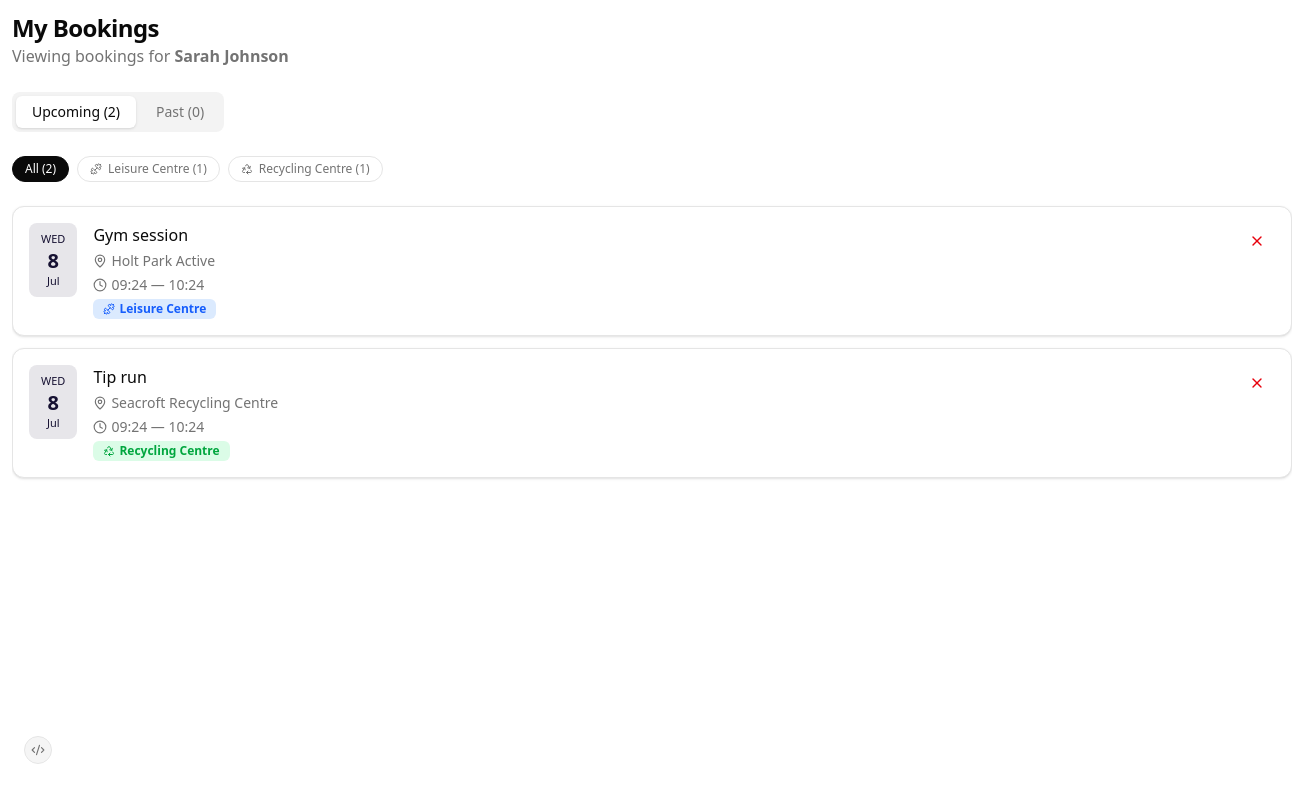
MyBookingsPage › filters bookings by category chip when multiple categories are present
Expected: the text "Gym session" is shown, [93,223,188,247]
Expected: the text "Tip run" is shown, [93,365,147,389]
What coordinates should you click on to do the following:
click the button "Recycling Centre (1)"
I would click on:
 (305, 169)
Its box is [228,156,383,182].
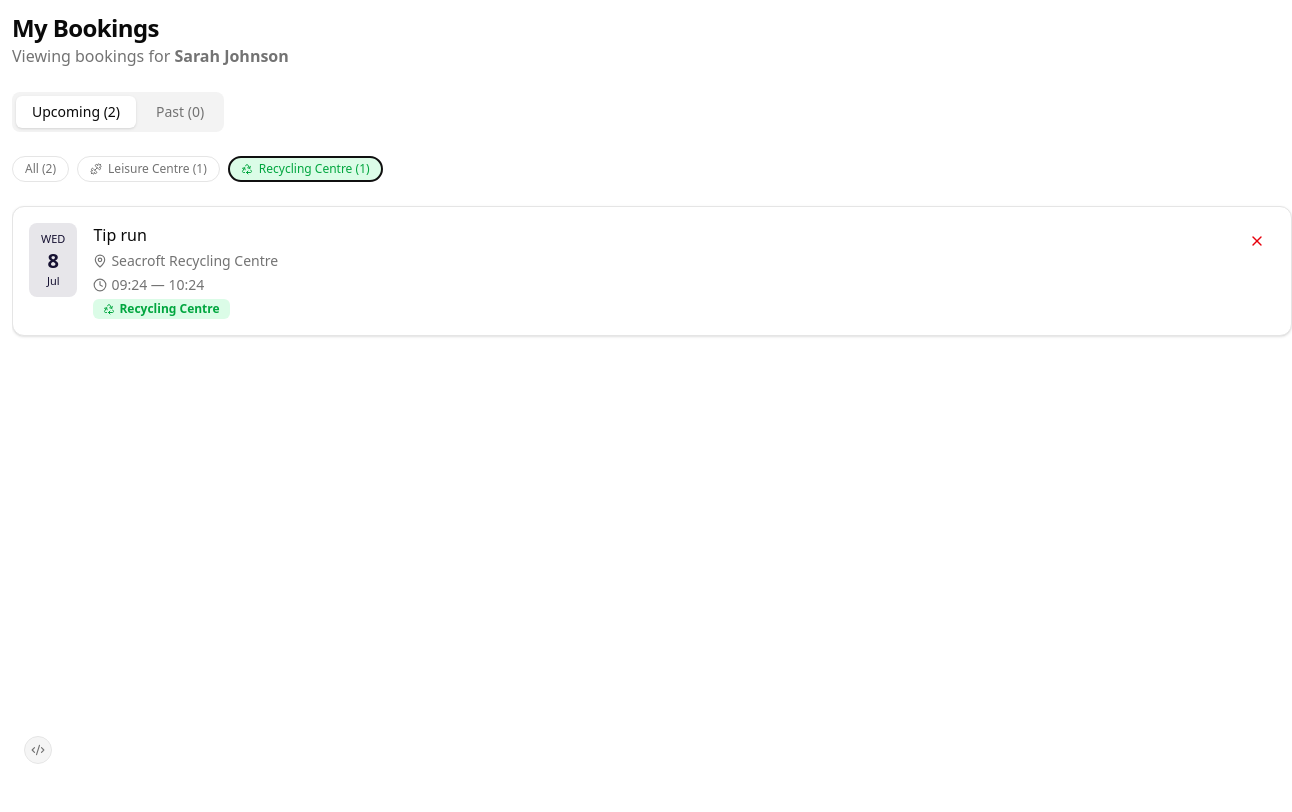
Expected: the text "Tip run" is shown, [93,223,147,247]
Expected: the text "Gym session" is gone
